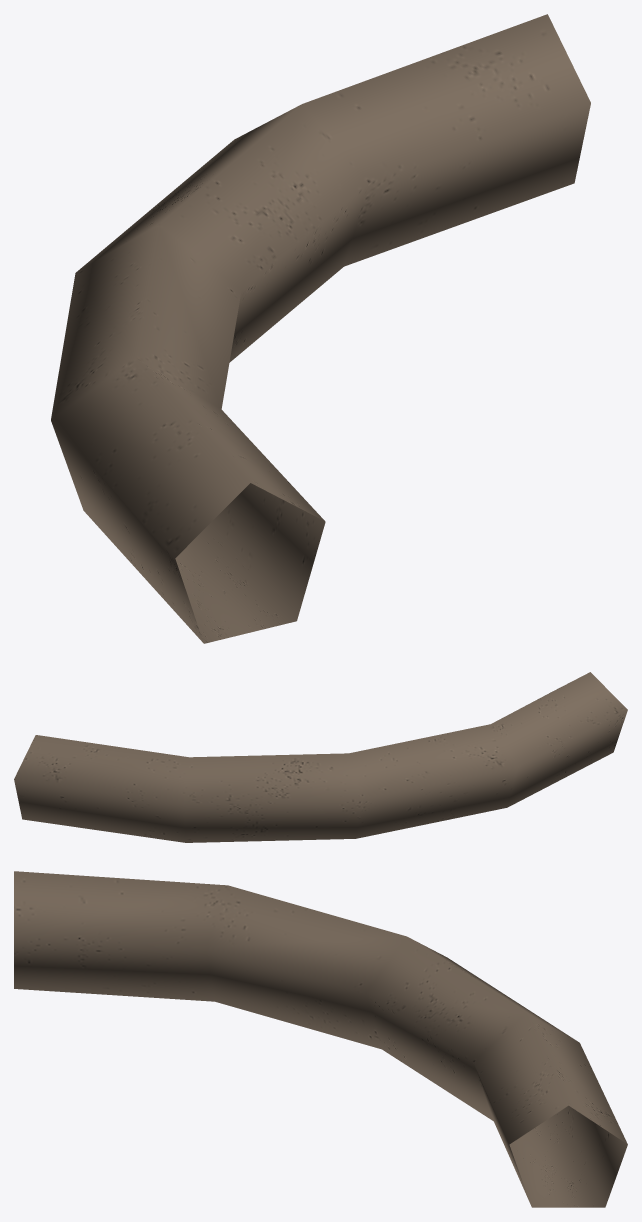
File: Pipe1_curve1_Phys.fbx
3 views of the same model, one above another, from view 1: azimuth 30°, elevation 25°; view 2: azimuth 150°, elevation 25°; view 3: azimuth 270°, elevation 25° (orthographic). The views are drawn at different scales.
Parts seen in each view (by area): view 1: Pipe1_curve1_Phys; view 2: Pipe1_curve1_Phys; view 3: Pipe1_curve1_Phys.
Boxes of the visible parts, x1=… form: Pipe1_curve1_Phys: x1=51, y1=14, x2=590, y2=643; Pipe1_curve1_Phys: x1=14, y1=672, x2=627, y2=842; Pipe1_curve1_Phys: x1=14, y1=871, x2=627, y2=1207.
Size of the model in its own units: 29.54 by 29.54 by 5.43.
